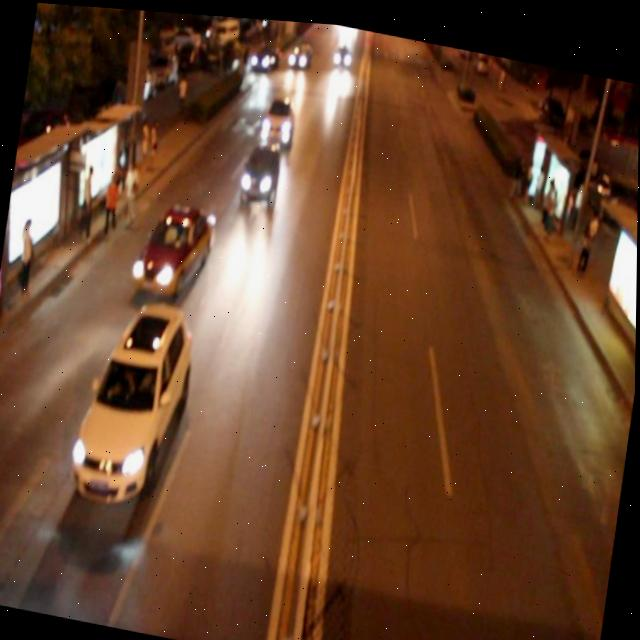car: (70, 288, 199, 512), (130, 189, 217, 302), (237, 133, 283, 203), (258, 88, 297, 143), (285, 35, 312, 68)
